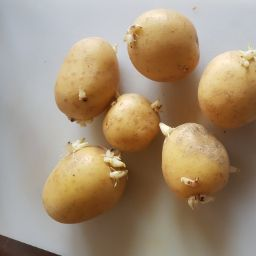Russet potato: (15, 6, 256, 226), (153, 114, 244, 212), (35, 136, 130, 223), (44, 36, 124, 123), (118, 8, 207, 82), (201, 39, 256, 134), (106, 90, 163, 159)
